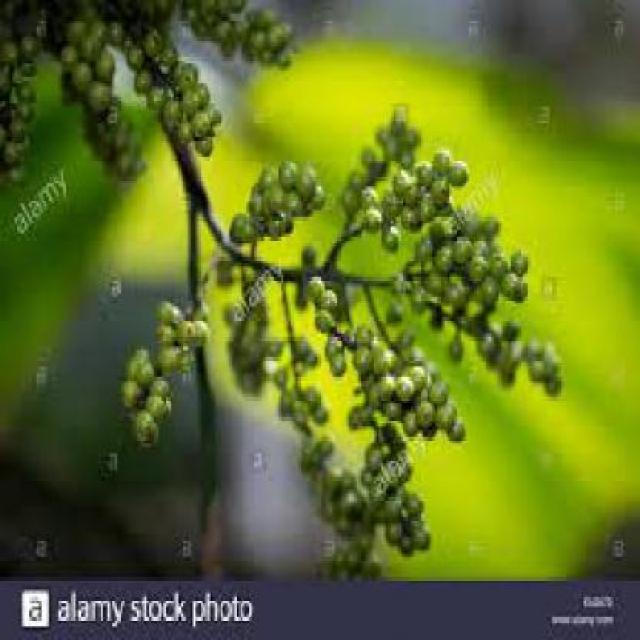UNRIPE: (395, 211, 560, 391), (337, 103, 466, 243), (302, 434, 431, 574), (349, 320, 466, 434), (123, 300, 206, 440), (59, 20, 133, 177), (142, 26, 223, 143), (225, 157, 320, 237), (217, 257, 269, 394), (191, 0, 291, 63), (0, 23, 32, 180), (274, 340, 328, 423), (311, 274, 345, 374)
